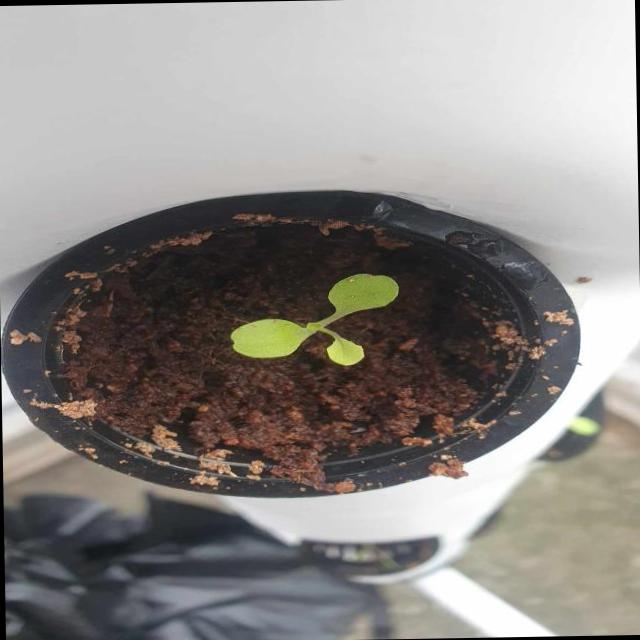Lettuce-Not-Ready-to-Harvest: (229, 273, 399, 368)
